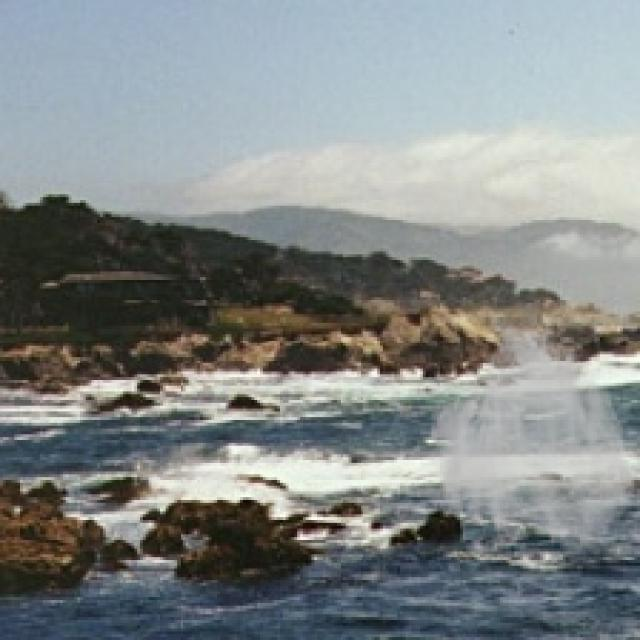Smoke: (426, 312, 634, 557)
